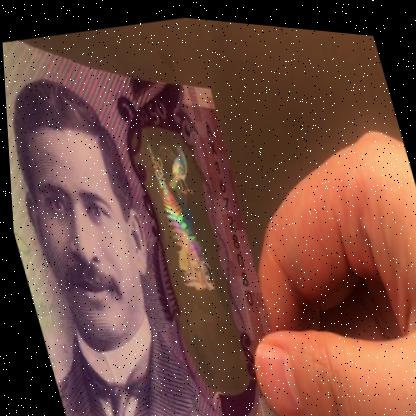50F: (136, 119, 243, 368)
